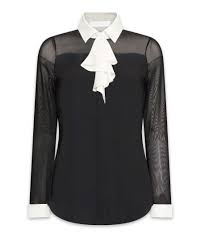S_blouse: (24, 10, 183, 224)
